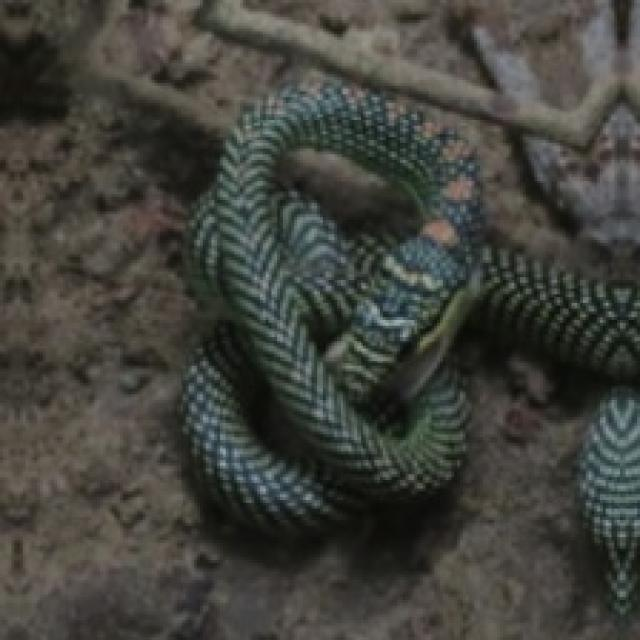paradise tree snake: (183, 89, 637, 534)
